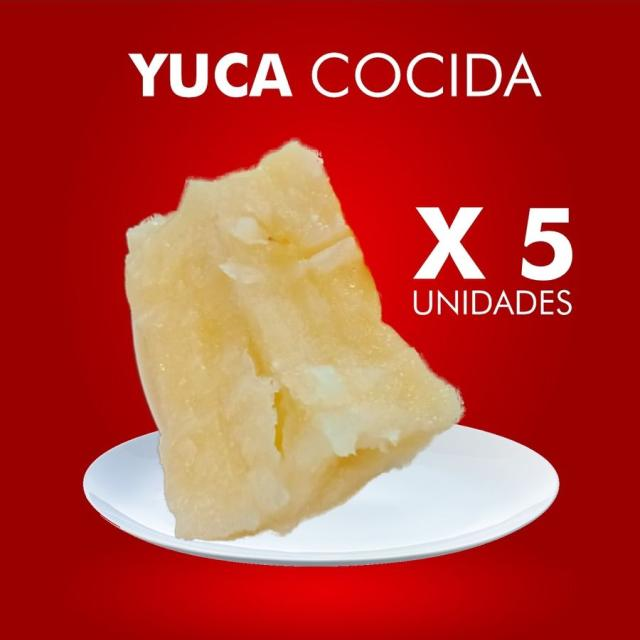yuca: (112, 139, 476, 548)
